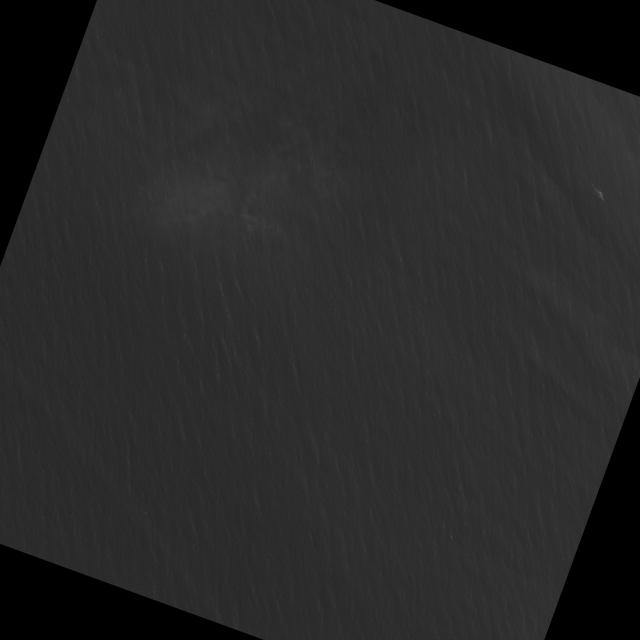ship: (601, 195, 604, 200)
